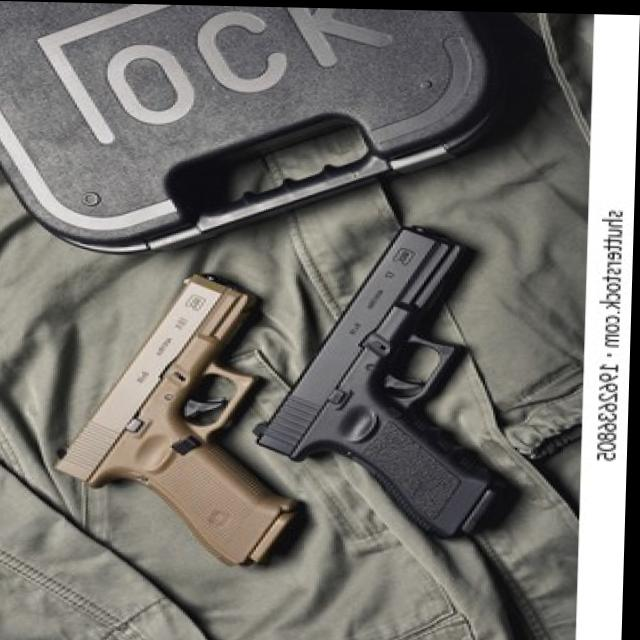handgun: (31, 165, 543, 600)
